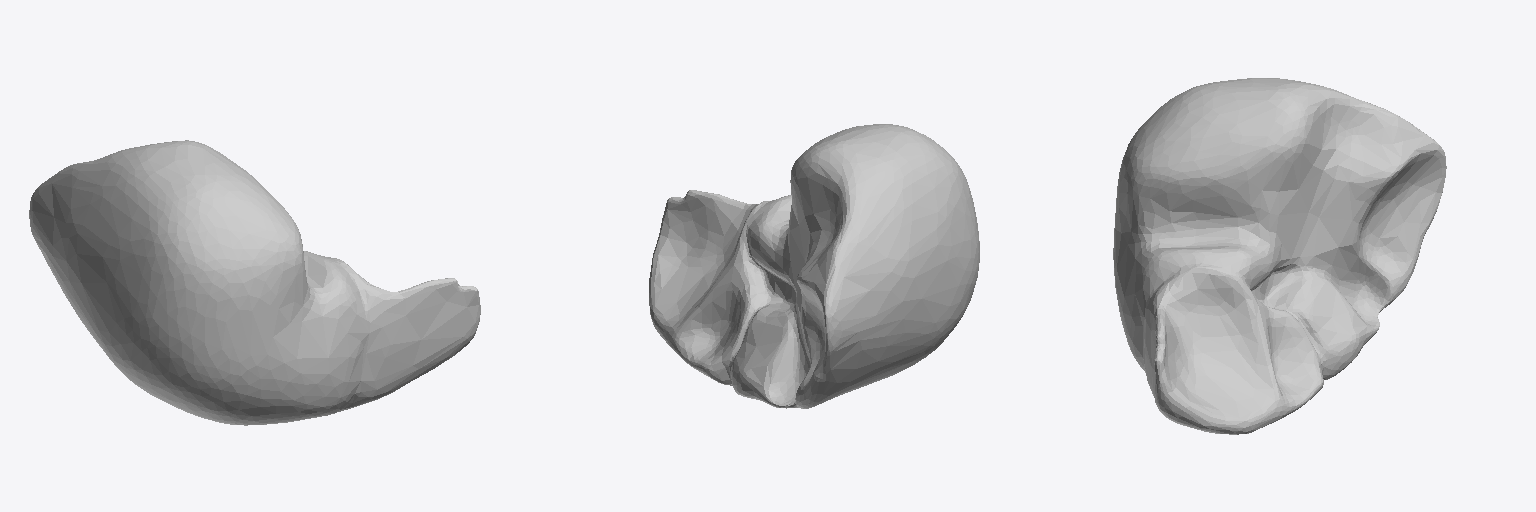
Rendered from FJ192_BP23_FMA7197_Liver.obj.
The picture shows the model from 3 angles: view 1: azimuth 30°, elevation 25°; view 2: azimuth 150°, elevation 25°; view 3: azimuth 270°, elevation 25°; orthographic projection.
Parts seen in each view (by area): view 1: grp1; view 2: grp1; view 3: grp1.
Part boxes in pixels (x1,y1,x2,y2): grp1: (29, 140, 480, 425); grp1: (649, 124, 979, 408); grp1: (1113, 78, 1446, 434).
Bounding box in the file's own units: 199 × 150 × 174.